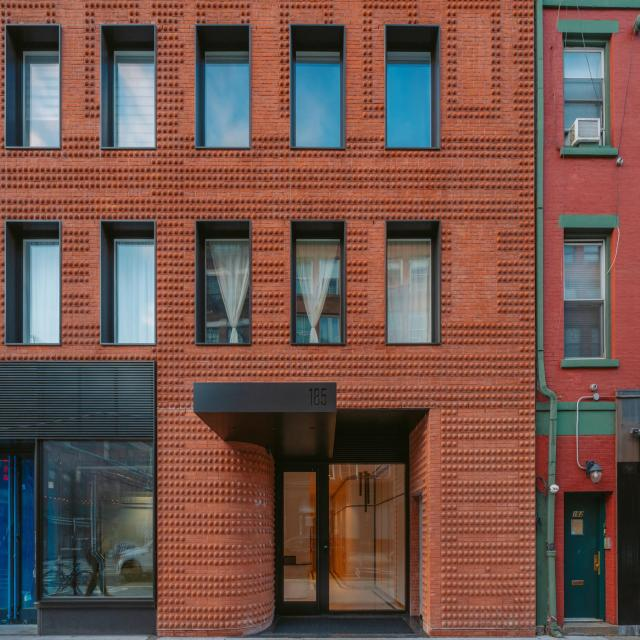door: (273, 463, 332, 615), (565, 498, 605, 620)
window: (273, 463, 409, 615), (41, 436, 156, 599), (564, 236, 603, 359), (203, 42, 247, 146), (387, 240, 431, 343), (387, 45, 431, 148), (110, 42, 154, 145), (113, 235, 154, 345), (21, 44, 64, 148), (207, 239, 250, 342), (297, 240, 340, 343), (295, 51, 338, 154), (21, 233, 59, 345), (562, 45, 602, 147)
